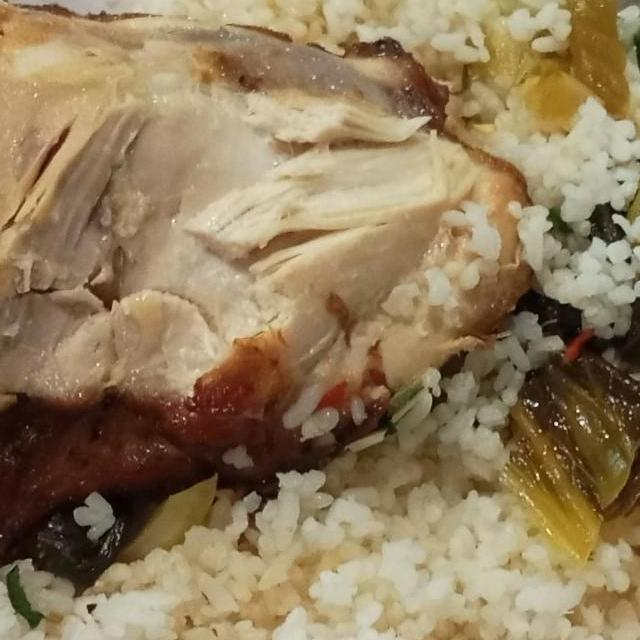com: (35, 463, 640, 640), (418, 0, 640, 241), (362, 304, 570, 493), (83, 0, 577, 77), (500, 184, 640, 346), (0, 547, 94, 640)
dua chua: (474, 112, 640, 574)
thit ga: (0, 0, 547, 605)
